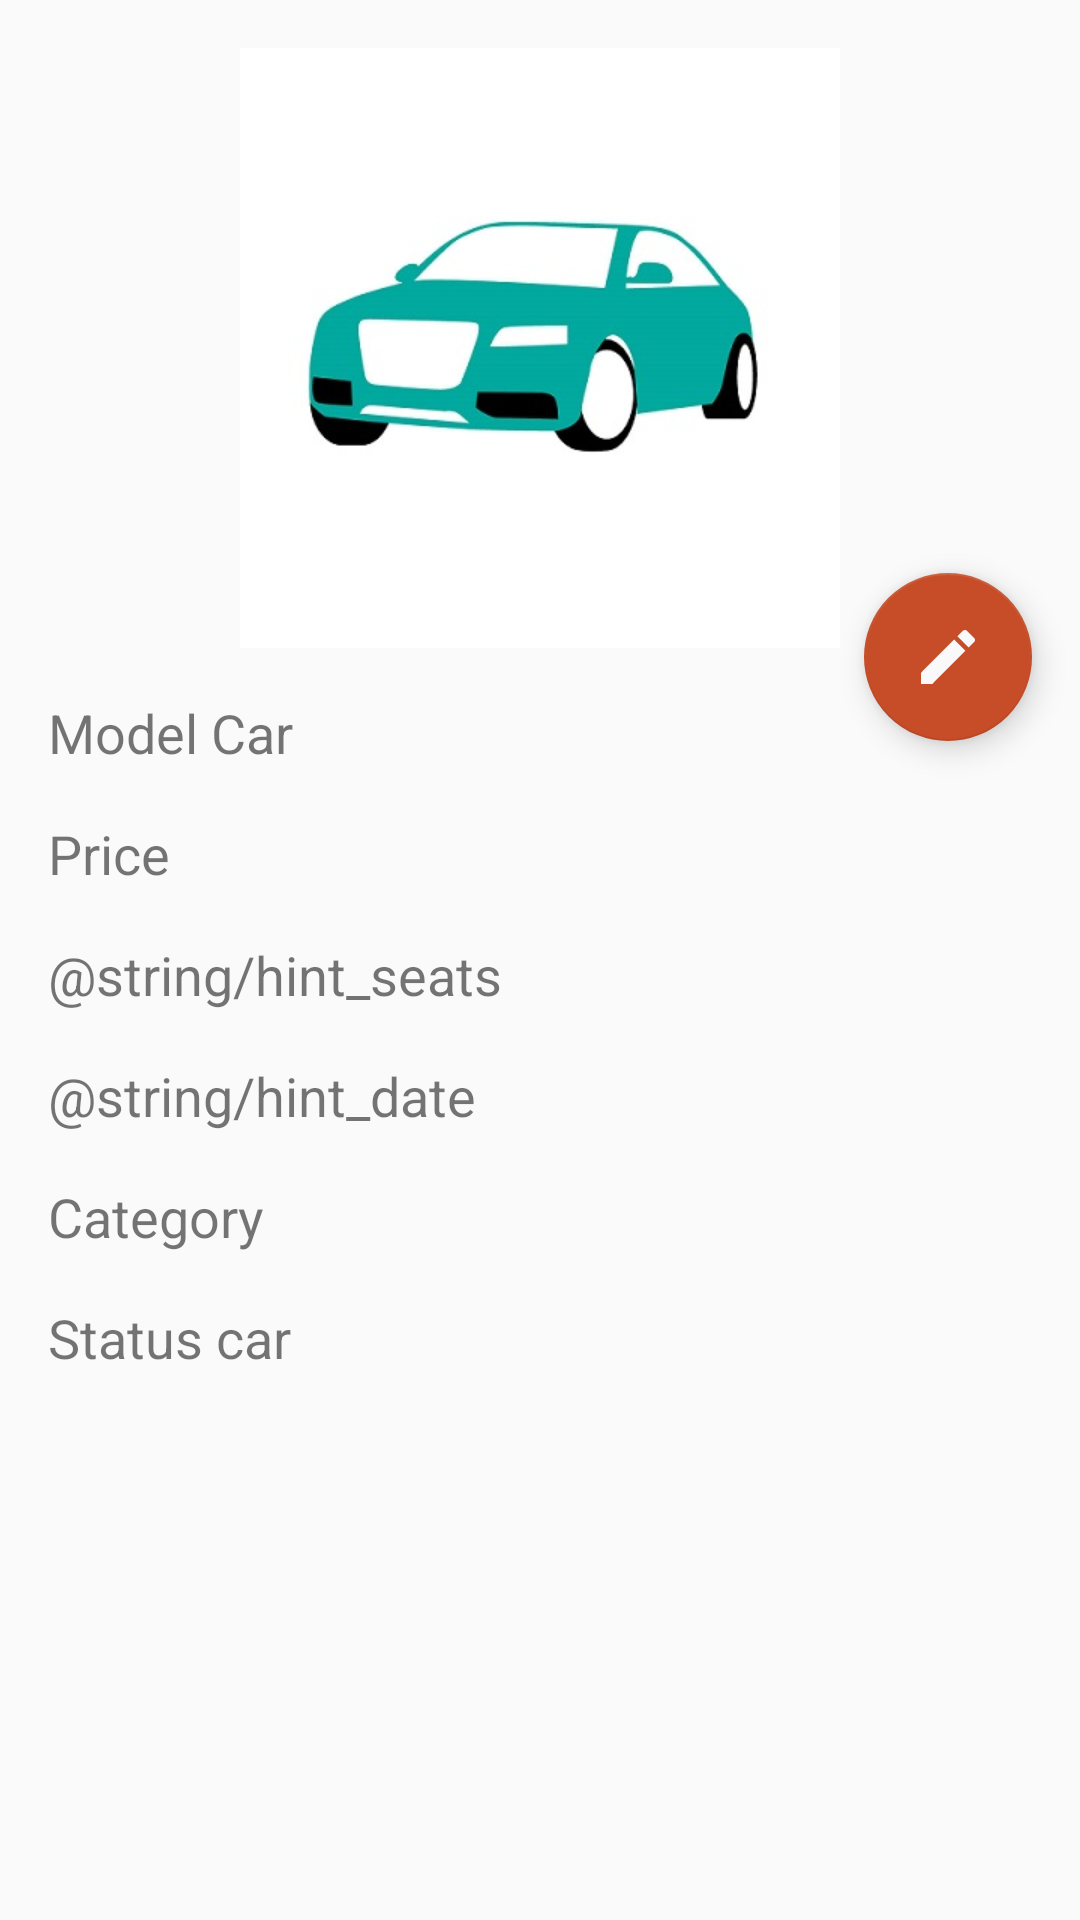

Point at icon controls on the screen. Image size 1080 × 1920, points as (x=x, y=y).
edit: (x=948, y=657)
